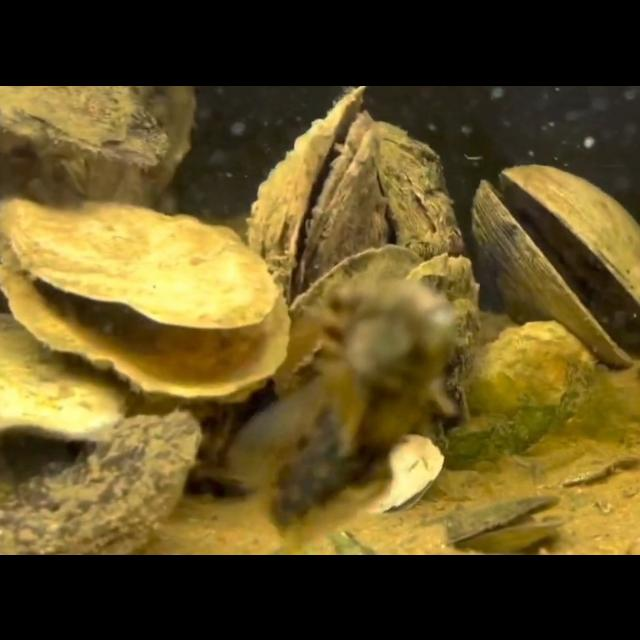Oyster-Closed: (0, 408, 204, 554), (437, 318, 595, 469), (0, 310, 130, 442), (0, 84, 172, 170), (372, 119, 462, 259)
Oyster-Open: (0, 197, 290, 400), (270, 244, 482, 423), (474, 163, 640, 364), (246, 85, 384, 295), (330, 431, 446, 514), (440, 490, 568, 554)
